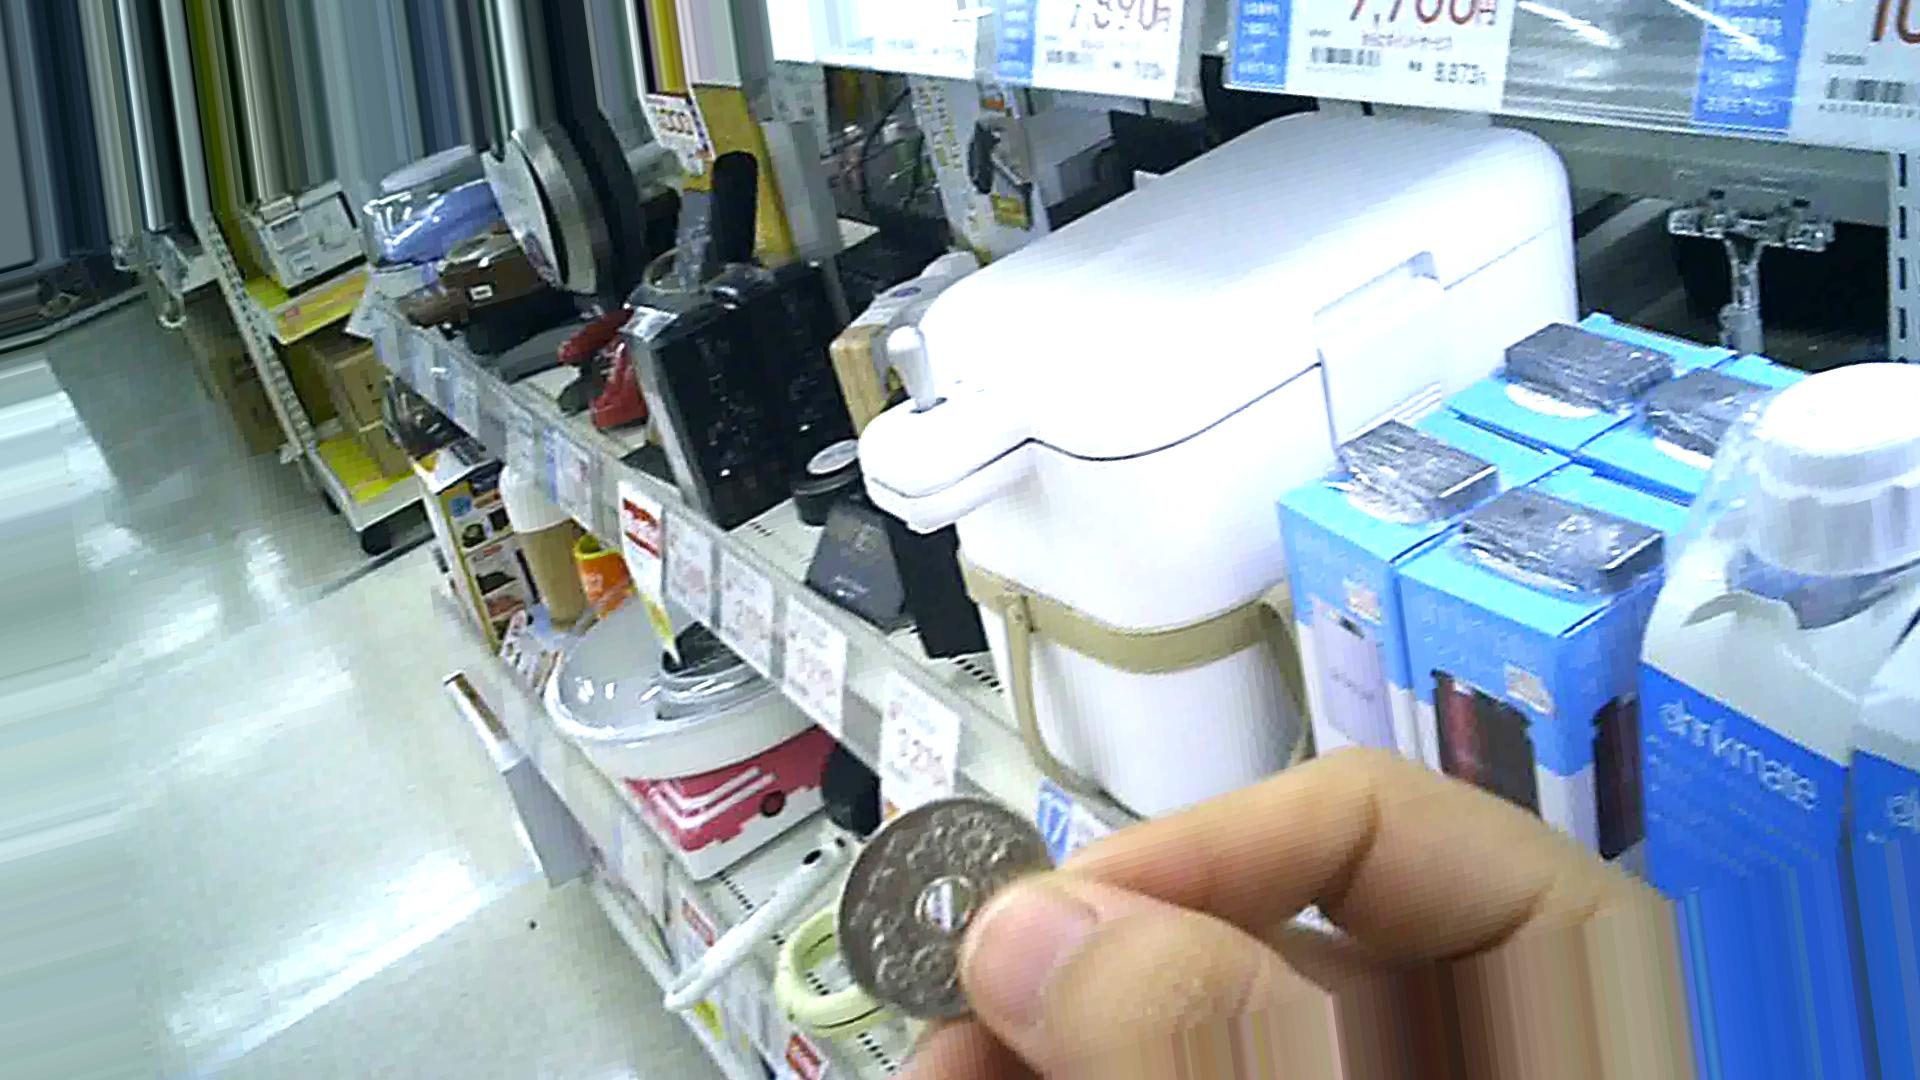50 Yen: (831, 793, 1054, 1029)
